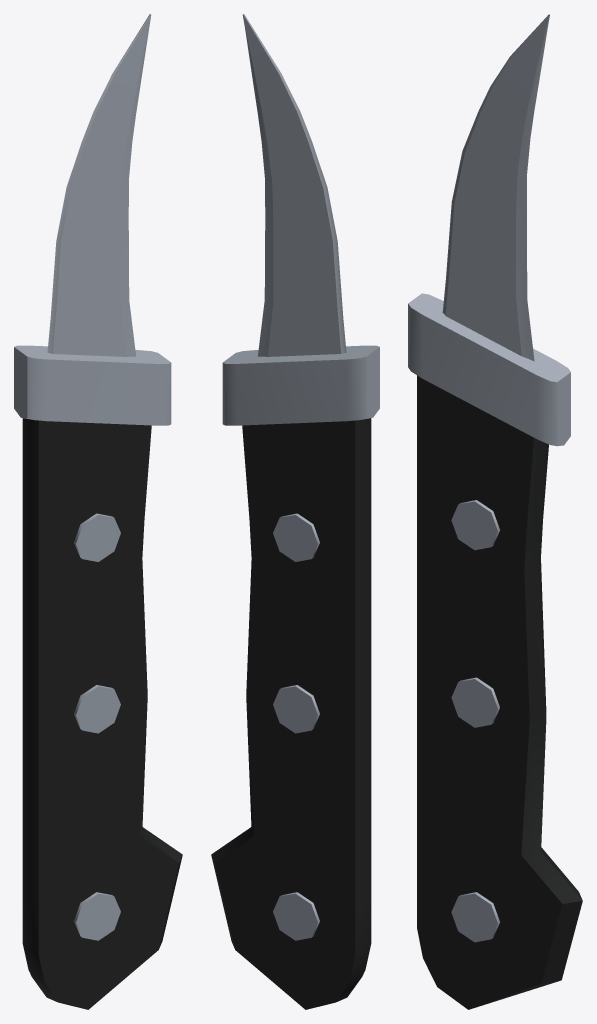
Rendered from scene_sjKgNhkH3i.glb.
3 views of the same model, side by side, from view 1: azimuth 30°, elevation 25°; view 2: azimuth 150°, elevation 25°; view 3: azimuth 330°, elevation 25° (orthographic). The views are drawn at different scales.
Parts seen in each view (by area): view 1: knife_peeling_knife.001_Cube.011; view 2: knife_peeling_knife.001_Cube.011; view 3: knife_peeling_knife.001_Cube.011.
Part boxes in pixels (box(x1,y1,x2,y2)): knife_peeling_knife.001_Cube.011: box(14, 14, 182, 1009); knife_peeling_knife.001_Cube.011: box(211, 14, 379, 1009); knife_peeling_knife.001_Cube.011: box(408, 14, 582, 1009).
Size of the model in its own units: 0.6414 by 3.68 by 0.1374.
1 material, 1 textured.
